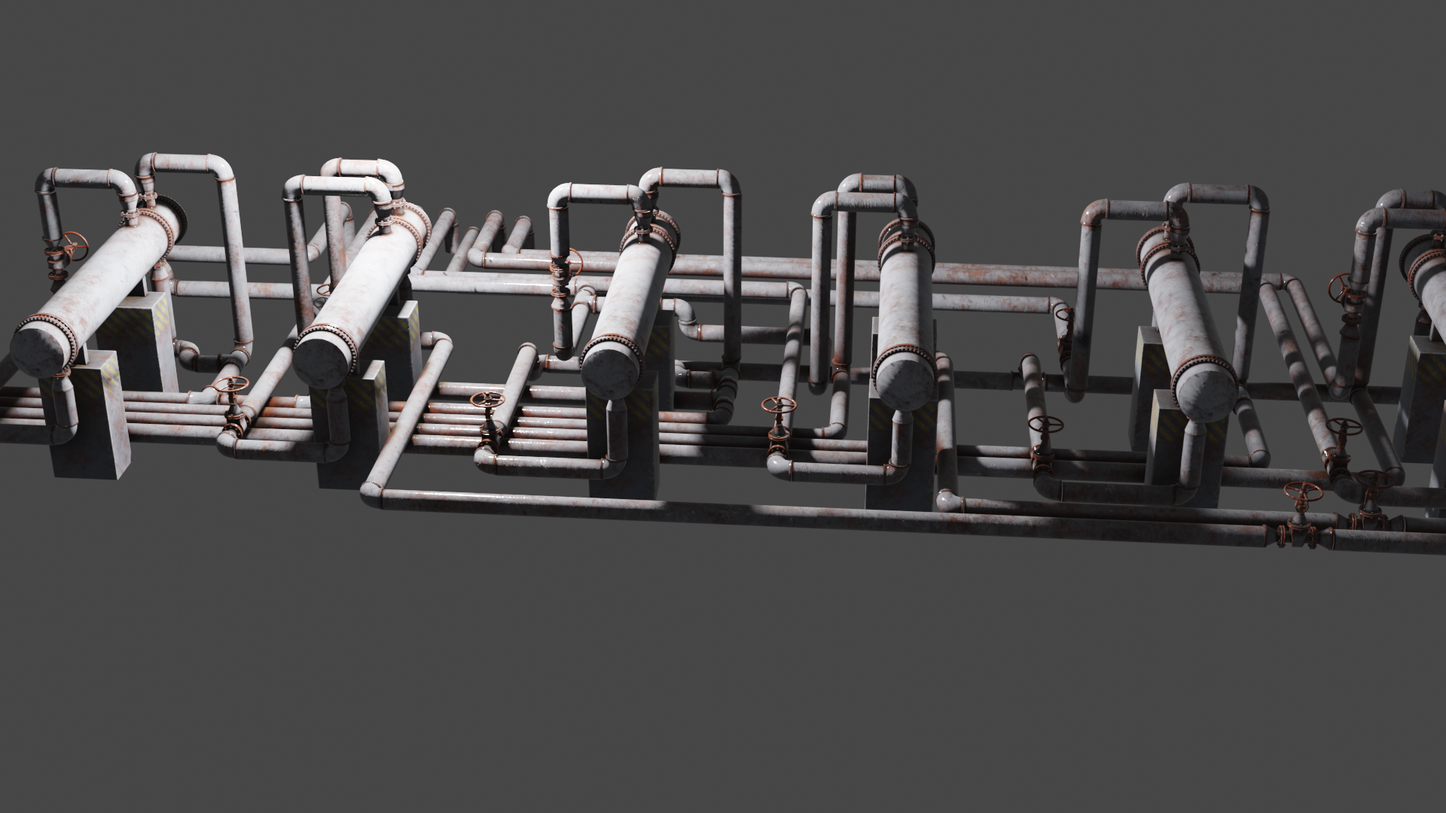HE_1: (1397, 233, 1446, 336)
HE_2: (1136, 223, 1239, 424)
HE_3: (872, 217, 935, 411)
HE_4: (575, 205, 681, 398)
HE_5: (292, 200, 433, 386)
HE_6: (14, 191, 193, 382)
